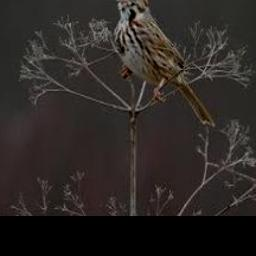Sparrow: (113, 0, 216, 127)
